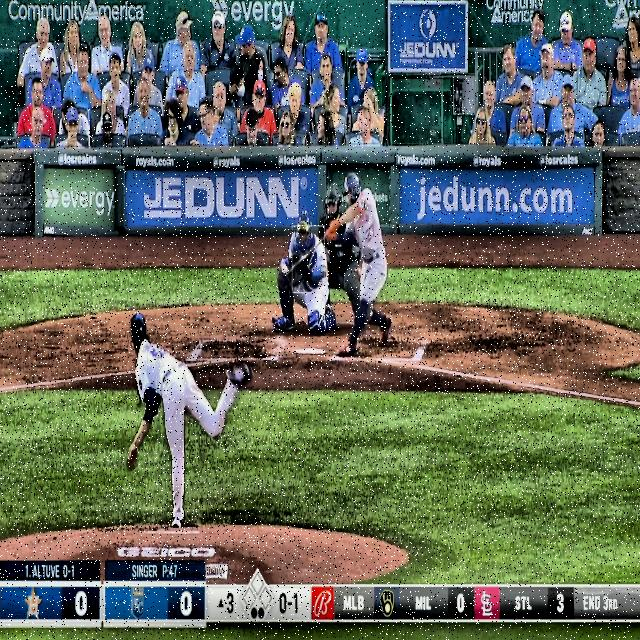baseball: (281, 264, 288, 274)
